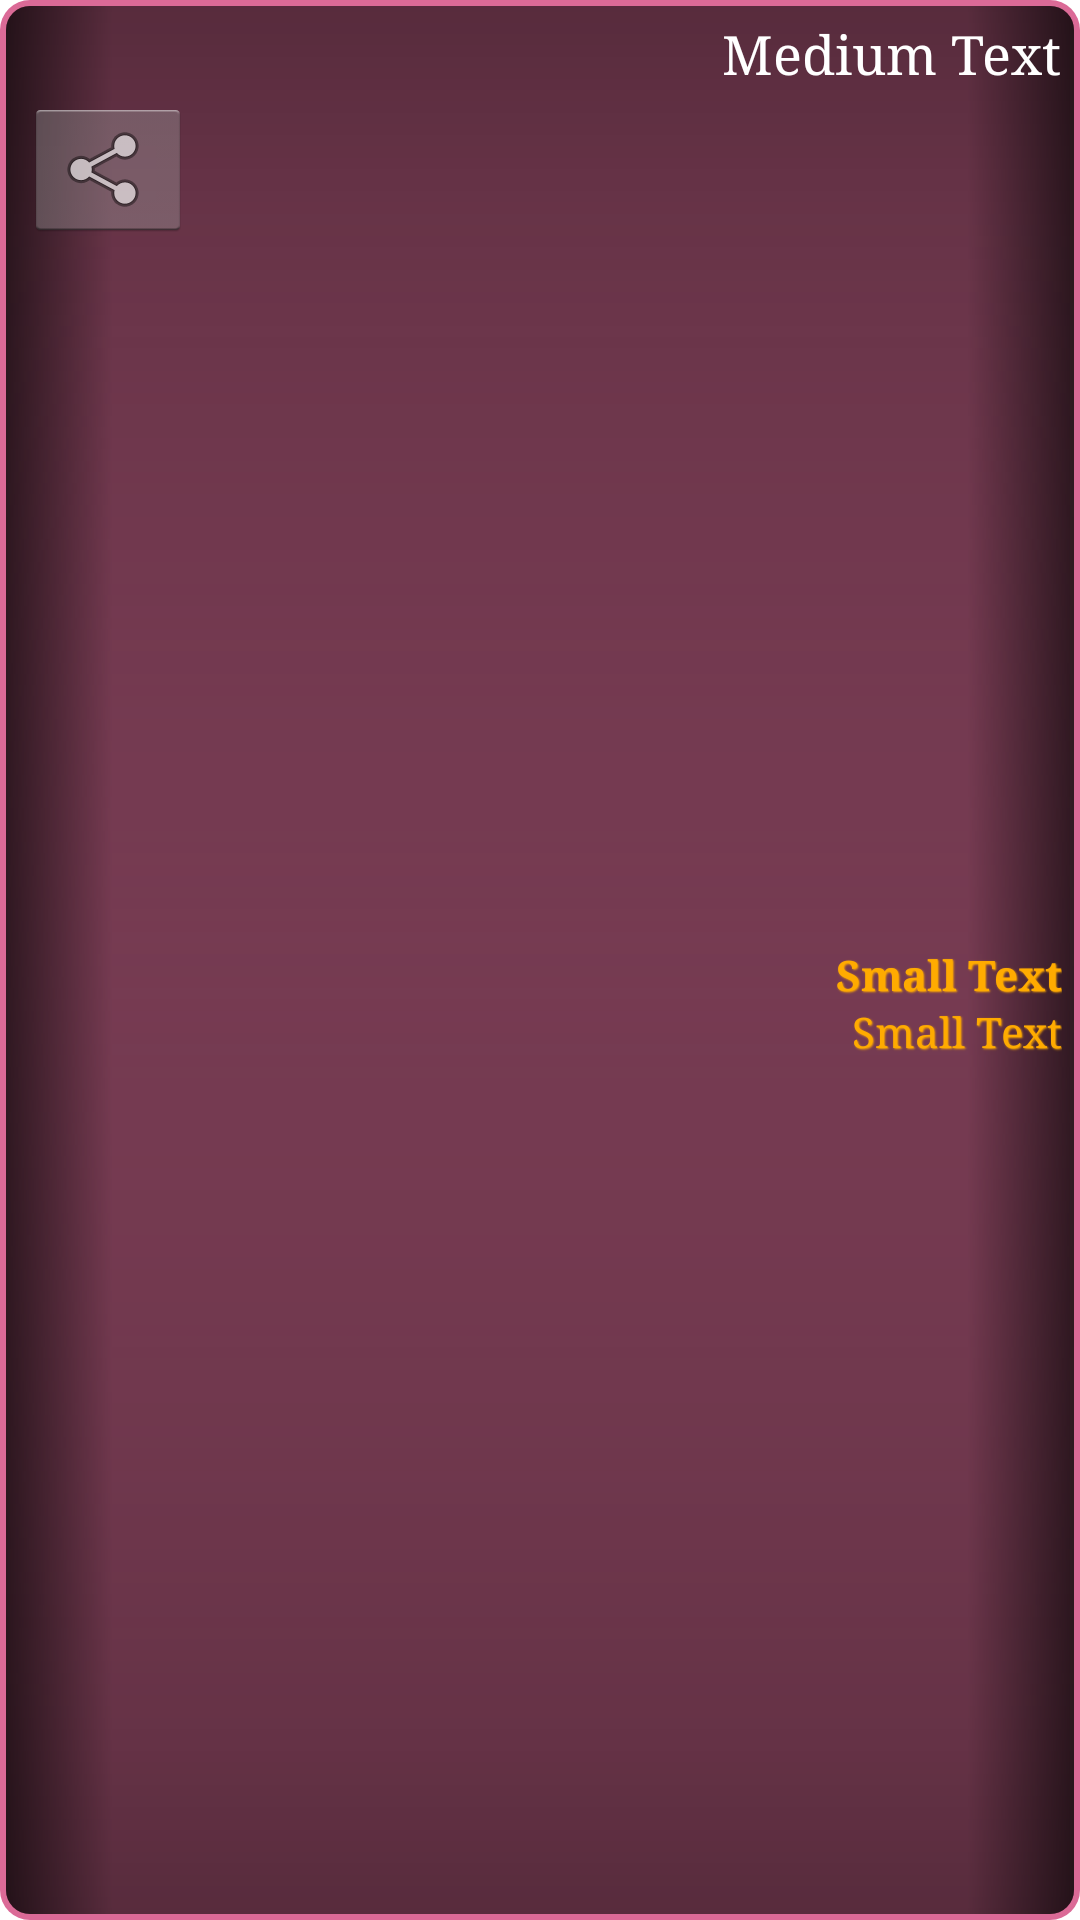

Point at icon controls on the screen. Image size 1080 × 1920, points as (x,y).
share: (108,170)
